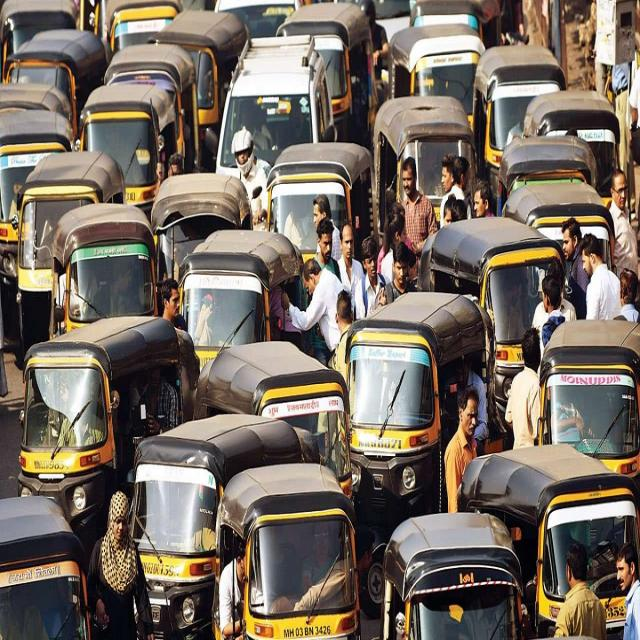autorikshaw: (344, 289, 488, 612), (20, 318, 199, 574), (135, 412, 318, 640), (201, 340, 356, 593), (461, 444, 638, 640), (412, 216, 562, 428), (215, 463, 361, 640), (184, 232, 306, 433), (50, 197, 162, 402), (540, 316, 640, 532), (267, 142, 378, 317), (381, 509, 528, 640), (0, 108, 75, 351)
